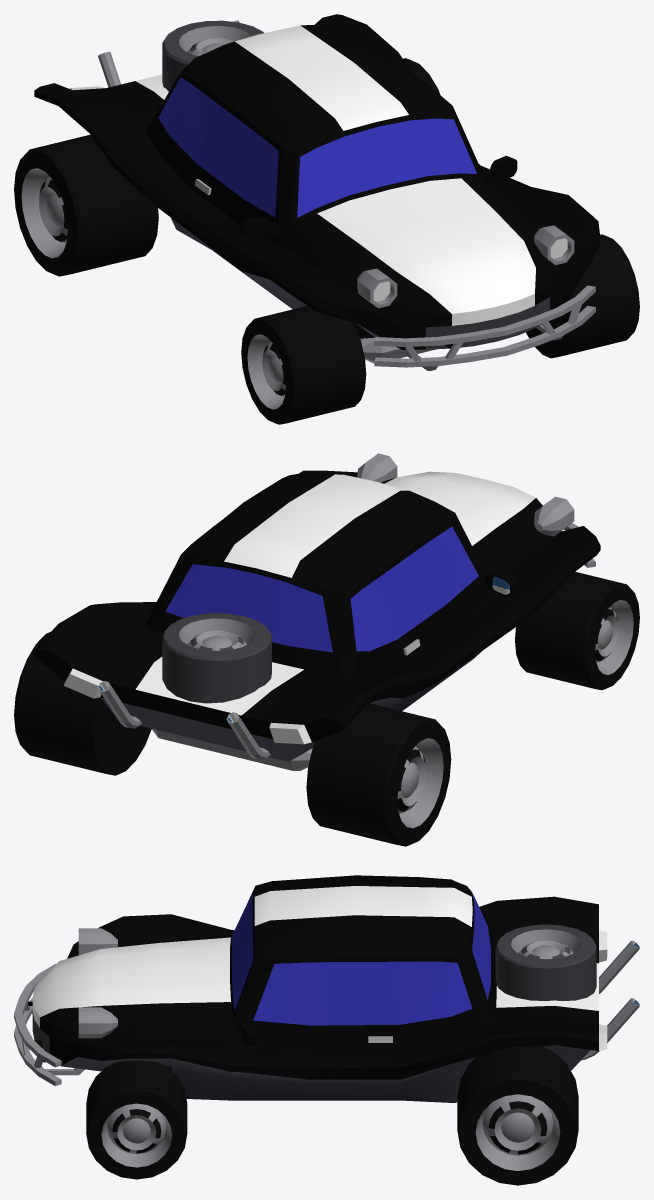
The model's file is Racing_Desert_Car.fbx.
The picture shows the model from 3 angles, top to bottom: view 1: azimuth 30°, elevation 25°; view 2: azimuth 150°, elevation 25°; view 3: azimuth 270°, elevation 25°; orthographic projection. The views are drawn at different scales.
Parts seen in each view (by area): view 1: Body.004, RearRightWheel.002, FrontRightWheel.002, FrontLeftWheel.002; view 2: Body.004, RearRightWheel.002, FrontRightWheel.002, RearLeftWheel.002; view 3: Body.004, RearLeftWheel.002, FrontLeftWheel.002.
Part boxes in pixels (box(x1,y1,x2,y2)): Body.004: box(34, 14, 600, 370); RearRightWheel.002: box(14, 134, 158, 276); FrontRightWheel.002: box(241, 306, 366, 424); FrontLeftWheel.002: box(526, 234, 639, 358); Body.004: box(34, 453, 600, 770); RearRightWheel.002: box(306, 703, 451, 846); FrontRightWheel.002: box(515, 571, 639, 690); RearLeftWheel.002: box(14, 631, 151, 775); Body.004: box(14, 875, 639, 1102); RearLeftWheel.002: box(457, 1045, 578, 1185); FrontLeftWheel.002: box(86, 1060, 187, 1179).
Size of the model in its own units: 121 by 68.47 by 191.
